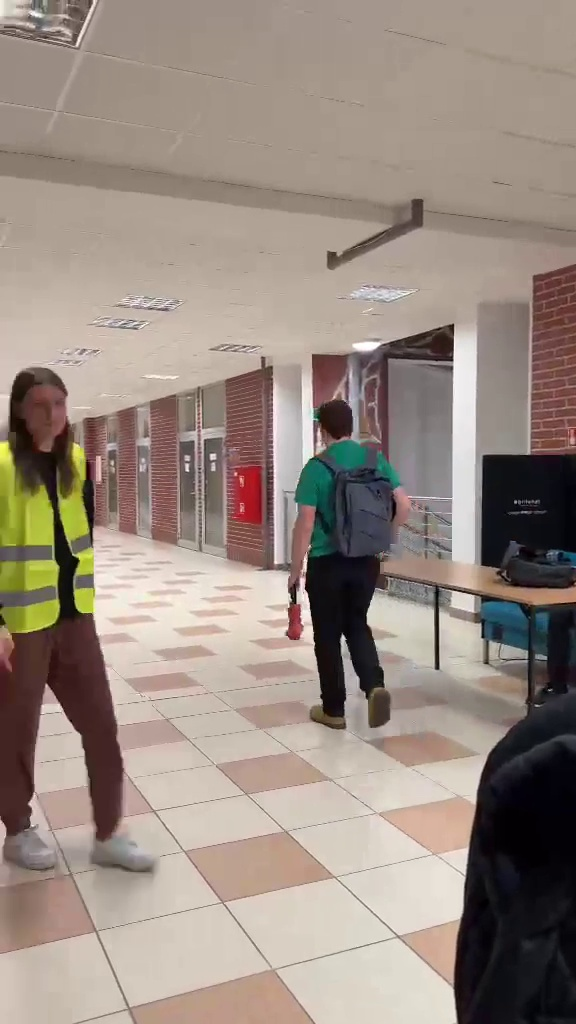no vest: (281, 379, 423, 716)
vest: (0, 343, 171, 886)
